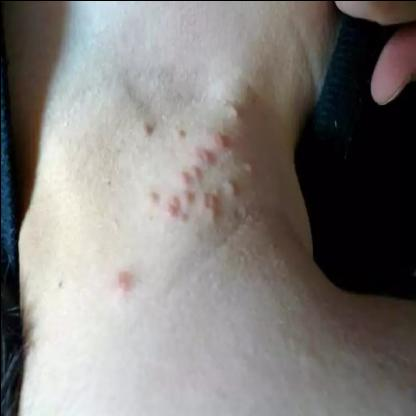Bed Bug: (136, 85, 259, 231), (106, 264, 140, 304)
